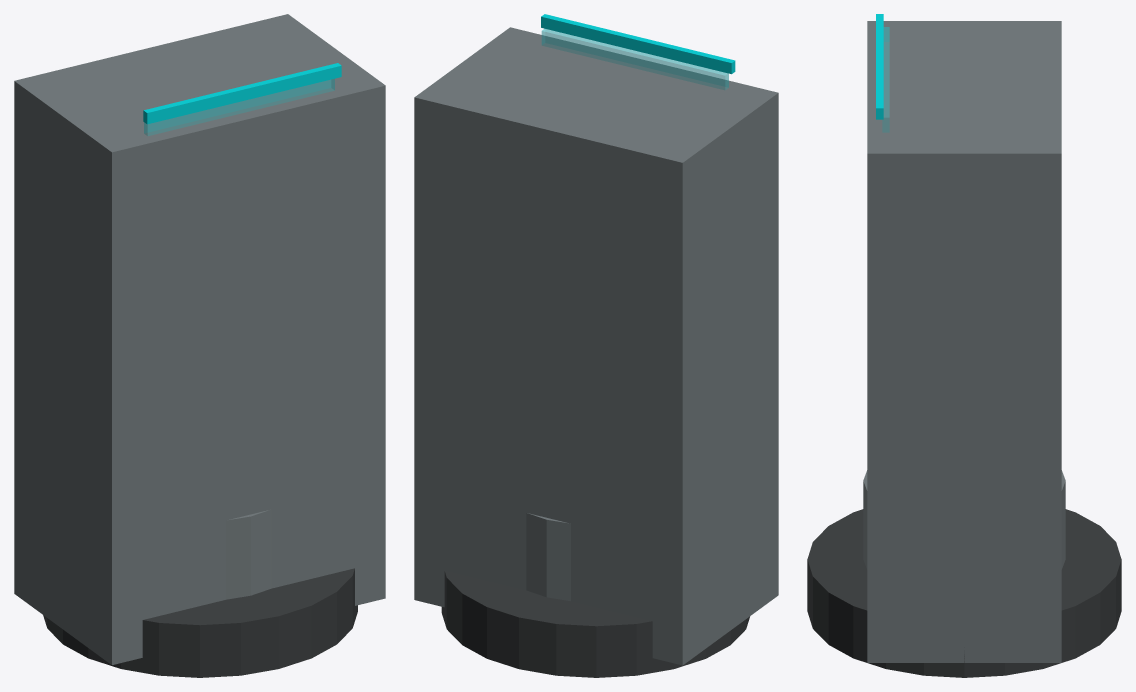
The model's file is prop_a2_range_hero_01.glb.
The picture shows the model from 3 angles, left to right: view 1: azimuth 30°, elevation 25°; view 2: azimuth 150°, elevation 25°; view 3: azimuth 270°, elevation 25°; orthographic projection. The views are drawn at different scales.
Visible parts, largest first — view 1: prop_a2_range_hero_01_lod1_blockout, prop_a2_range_hero_01_lod0_floor_base, prop_a2_range_hero_01_lod0_rotary_plinth, prop_a2_range_hero_01_lod0_holo_panel_top, prop_a2_range_hero_01_lod0_holo_panel; view 2: prop_a2_range_hero_01_lod1_blockout, prop_a2_range_hero_01_lod0_floor_base, prop_a2_range_hero_01_lod0_rotary_plinth, prop_a2_range_hero_01_lod0_holo_panel, prop_a2_range_hero_01_lod0_holo_panel_top; view 3: prop_a2_range_hero_01_lod1_blockout, prop_a2_range_hero_01_lod0_floor_base, prop_a2_range_hero_01_lod0_rotary_plinth, prop_a2_range_hero_01_lod0_holo_panel_top, prop_a2_range_hero_01_lod0_holo_panel.
Boxes of the visible parts, x1=… form: prop_a2_range_hero_01_lod1_blockout: x1=14, y1=14, x2=385, y2=664; prop_a2_range_hero_01_lod0_floor_base: x1=43, y1=568, x2=357, y2=677; prop_a2_range_hero_01_lod0_rotary_plinth: x1=226, y1=509, x2=271, y2=599; prop_a2_range_hero_01_lod0_holo_panel_top: x1=143, y1=63, x2=341, y2=124; prop_a2_range_hero_01_lod0_holo_panel: x1=144, y1=79, x2=334, y2=135; prop_a2_range_hero_01_lod1_blockout: x1=414, y1=27, x2=778, y2=665; prop_a2_range_hero_01_lod0_floor_base: x1=441, y1=570, x2=749, y2=677; prop_a2_range_hero_01_lod0_rotary_plinth: x1=526, y1=513, x2=570, y2=601; prop_a2_range_hero_01_lod0_holo_panel: x1=541, y1=29, x2=728, y2=89; prop_a2_range_hero_01_lod0_holo_panel_top: x1=541, y1=14, x2=735, y2=74; prop_a2_range_hero_01_lod1_blockout: x1=867, y1=21, x2=1061, y2=662; prop_a2_range_hero_01_lod0_floor_base: x1=807, y1=509, x2=1121, y2=677; prop_a2_range_hero_01_lod0_rotary_plinth: x1=863, y1=470, x2=1065, y2=569; prop_a2_range_hero_01_lod0_holo_panel_top: x1=876, y1=14, x2=883, y2=119; prop_a2_range_hero_01_lod0_holo_panel: x1=882, y1=27, x2=889, y2=132.
Size of the model in its own units: 0.76 by 1.47 by 0.76.
